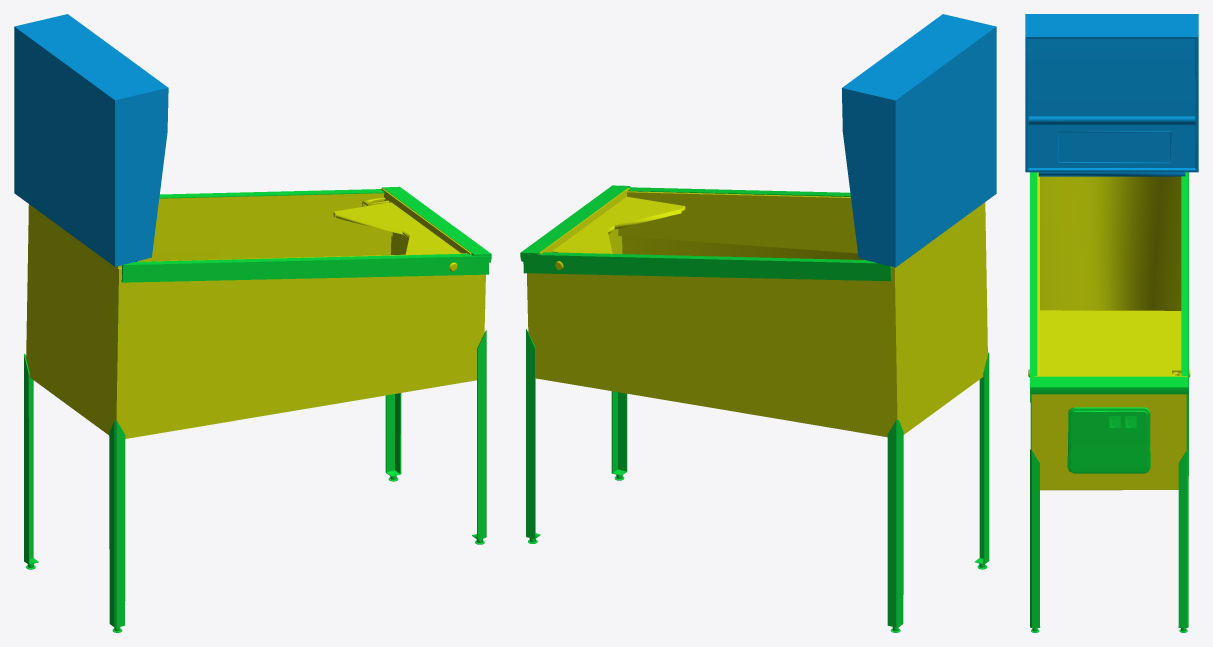
The model's file is Cabinet_Mobile.fbx.
3 views of the same model, side by side, from view 1: azimuth 30°, elevation 25°; view 2: azimuth 150°, elevation 25°; view 3: azimuth 270°, elevation 25° (orthographic). The views are drawn at different scales.
Parts seen in each view (by area): view 1: Cabinet_Mobile; view 2: Cabinet_Mobile; view 3: Cabinet_Mobile.
Boxes of the visible parts, left/top/right/bottom form: Cabinet_Mobile: left=14, top=14, right=491, bottom=632; Cabinet_Mobile: left=520, top=14, right=996, bottom=632; Cabinet_Mobile: left=1025, top=14, right=1198, bottom=632.
Size of the model in its own units: 137 by 184 by 62.51.
